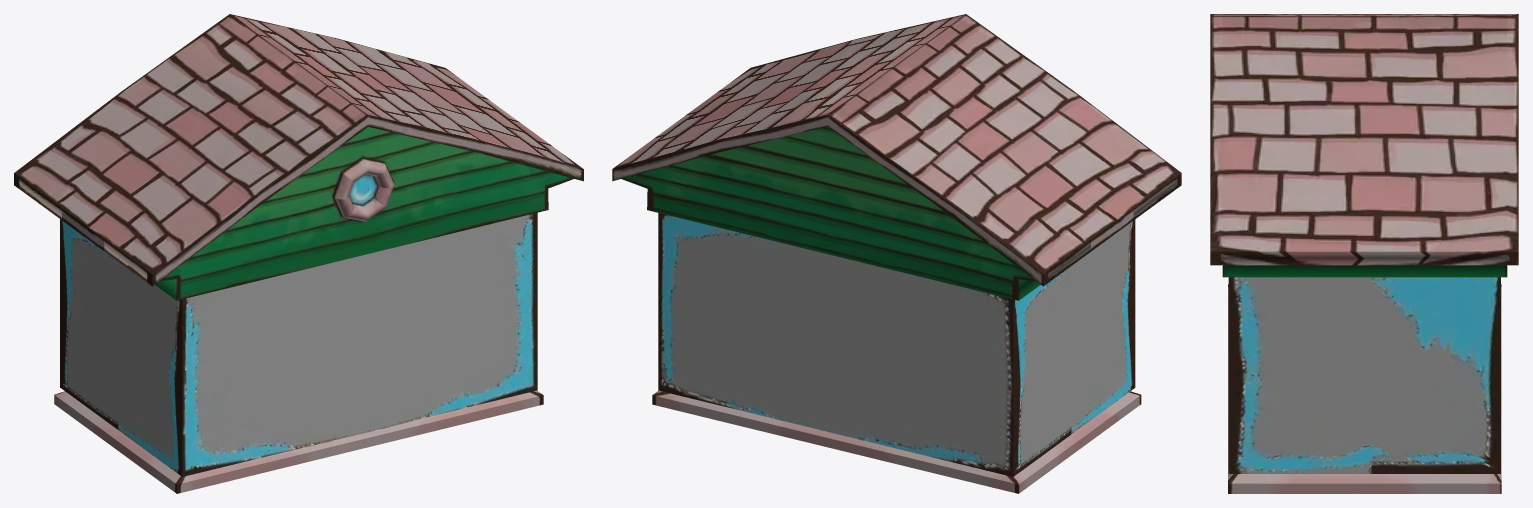
The model's file is furnished_aquarium_apartment-b48e3ba3.glb.
3 views of the same model, side by side, from view 1: azimuth 30°, elevation 25°; view 2: azimuth 150°, elevation 25°; view 3: azimuth 270°, elevation 25° (orthographic). The views are drawn at different scales.
Parts seen in each view (by area): view 1: Object_18, Object_5; view 2: Object_18, Object_5; view 3: Object_18, Object_5.
Part boxes in pixels (x1,y1,x2,y2): Object_18: (14,14,583,493); Object_5: (60,212,537,476); Object_18: (612,14,1181,493); Object_5: (658,213,1135,476); Object_18: (1210,14,1518,493); Object_5: (1228,277,1500,473).
Size of the model in its own units: 22.91 by 17.24 by 12.74.
21 materials, 20 textured.
